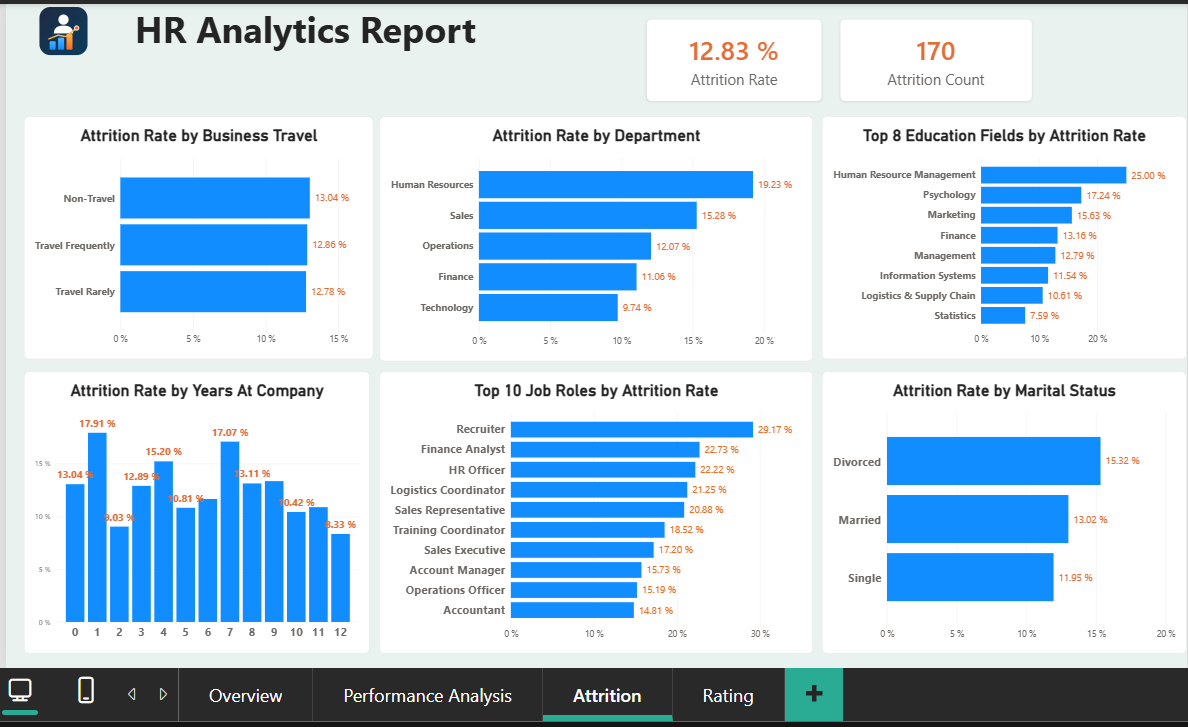

The page's visual inventory and layout, read from the dashboard file:
{"tool":"powerbi","page":{"name":"Attrition","canvas":[1920,1080],"ordinal":2},"visuals":[{"type":"clusteredBarChart","title":"Attrition Rate by Business Travel","fields":{"Category":["Employee.BusinessTravel"],"Y":["Measure_List.Attrition Rate"]},"box":[30.4,182.3,568.1,394.9],"z":0},{"type":"clusteredBarChart","fields":{"Category":["Employee.Department"],"Y":["Measure_List.Attrition Rate"]},"box":[607.6,182.3,704.8,398],"z":1000},{"type":"clusteredBarChart","title":"Top 8 Education Fields by Attrition Rate","fields":{"Category":["Employee.EducationField"],"Y":["Measure_List.Attrition Rate"]},"box":[1327.6,182.3,592.4,394.9],"z":2000},{"type":"clusteredColumnChart","title":"Attrition Rate by Years At Company","fields":{"Category":["Employee.YearsAtCompany"],"Y":["Measure_List.Attrition Rate"]},"box":[30.4,598.5,562,458.7],"z":3000},{"type":"textbox","box":[209.6,0,628.9,88.1],"z":4000,"group":"g1"},{"type":"clusteredBarChart","title":"Top 10 Job Roles by Attrition Rate","fields":{"Category":["Employee.JobRole"],"Y":["Measure_List.Attrition Rate"]},"box":[607.6,598.5,704.8,458.7],"z":4000},{"type":"clusteredBarChart","title":"Attrition Rate by Marital Status","fields":{"Category":["Employee.MaritalStatus"],"Y":["Measure_List.Attrition Rate"]},"box":[1327.6,598.5,592.4,458.7],"z":5000},{"type":"group","id":"g1","title":"Group 1","box":[27.3,0,811.1,88.1],"z":6000},{"type":"card","fields":{"Values":["Measure_List.Attrition Rate"]},"box":[1042,24.3,285.6,133.7],"z":7000,"group":"g2"},{"type":"card","fields":{"Values":["Measure_List.Attrition Count"]},"box":[1357.9,24.3,312.9,133.7],"z":8000,"group":"g2"},{"type":"group","id":"g2","title":"Group 2","box":[1042,24.3,628.9,133.7],"z":8001},{"type":"image","box":[27.3,0,133.7,88.1],"z":11001,"group":"g1"}]}

Visuals, with their boxes on the page's 1920x1080 design canvas (x1, y1, x2, y2). These are canvas units, not pixel positions in the 1188x727 screenshot, which may show the page scaled, cropped or inside an application window:
"Attrition Rate by Business Travel" clusteredBarChart: (30,182,598,577)
clusteredBarChart - Employee.Department x Measure_List.Attrition Rate: (608,182,1312,580)
"Top 8 Education Fields by Attrition Rate" clusteredBarChart: (1328,182,1920,577)
"Attrition Rate by Years At Company" clusteredColumnChart: (30,598,592,1057)
textbox: (210,0,838,88)
"Top 10 Job Roles by Attrition Rate" clusteredBarChart: (608,598,1312,1057)
"Attrition Rate by Marital Status" clusteredBarChart: (1328,598,1920,1057)
"Group 1" group: (27,0,838,88)
card - Measure_List.Attrition Rate: (1042,24,1328,158)
card - Measure_List.Attrition Count: (1358,24,1671,158)
"Group 2" group: (1042,24,1671,158)
image: (27,0,161,88)
